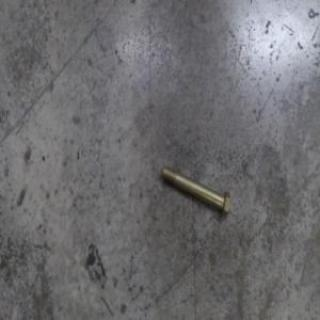Bolttrack_idkeyframe: (160, 160, 230, 218)
